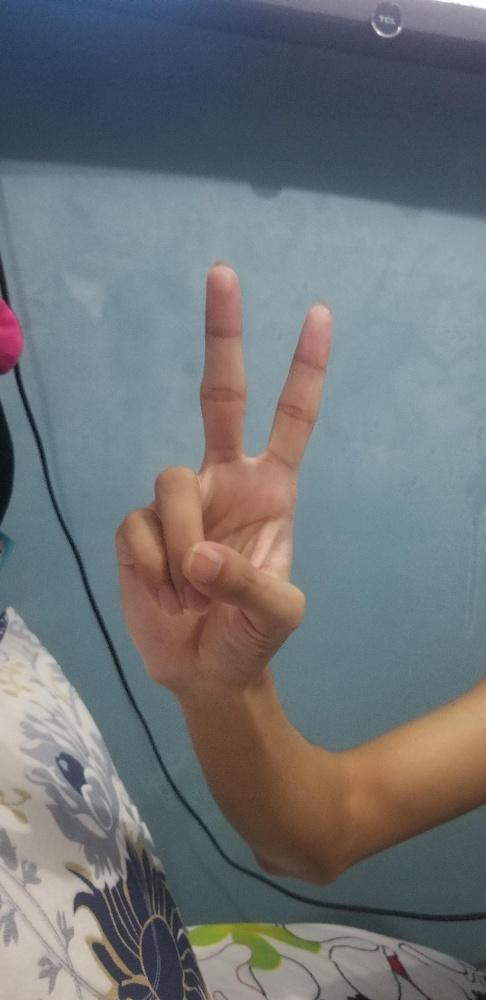v: (112, 259, 334, 696)
